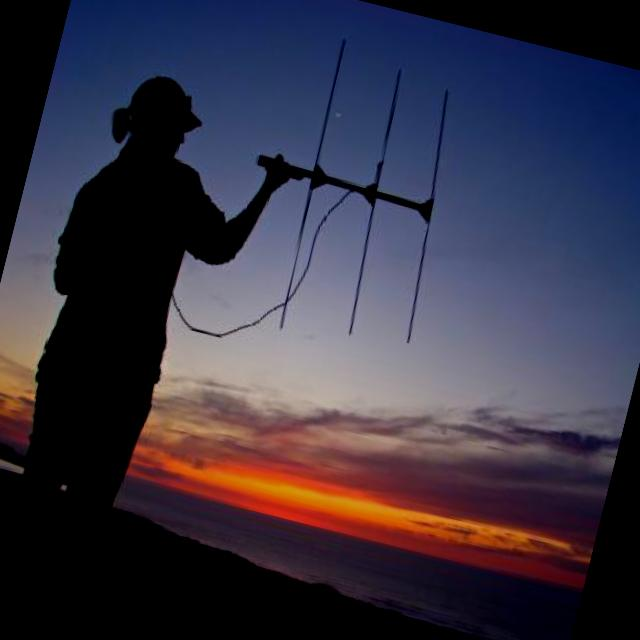Person: (0, 57, 293, 568)
